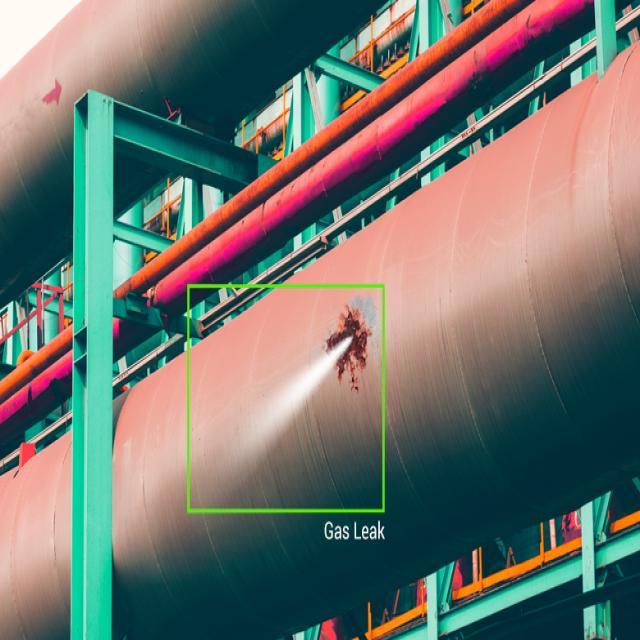corrosion: (267, 317, 388, 453)
